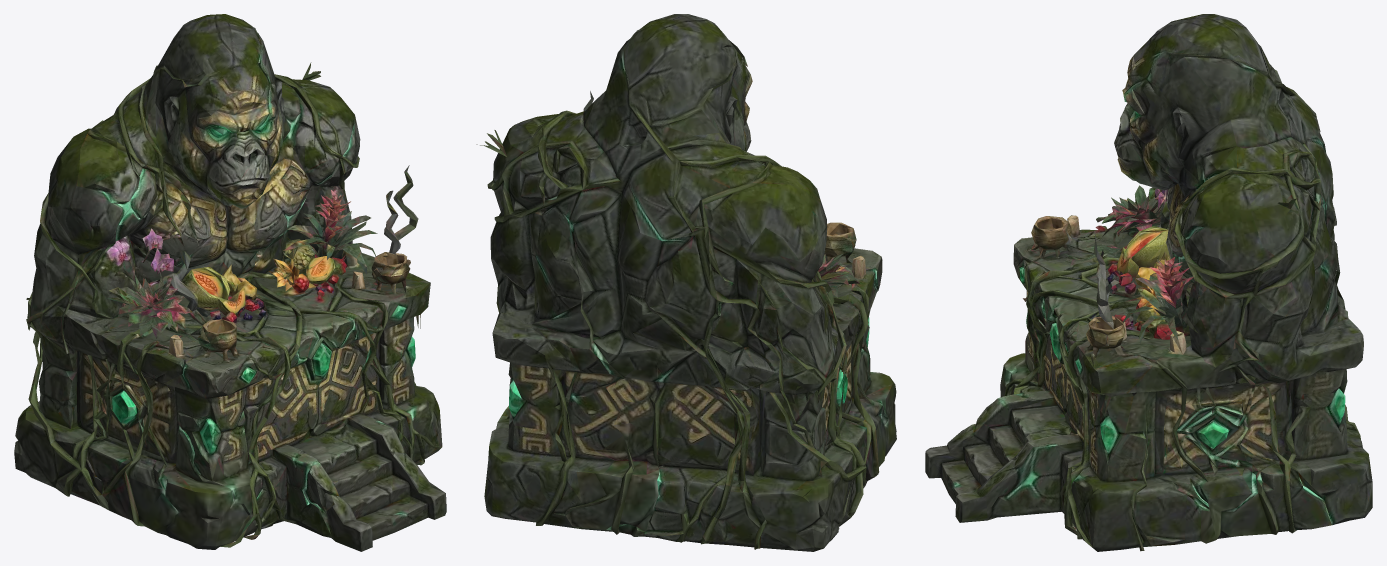
Rendered from model.opt.c.glb.
3 views of the same model, side by side, from view 1: azimuth 30°, elevation 25°; view 2: azimuth 150°, elevation 25°; view 3: azimuth 270°, elevation 25° (orthographic). The views are drawn at different scales.
Parts seen in each view (by area): view 1: Mesh_0; view 2: Mesh_0; view 3: Mesh_0.
Boxes of the visible parts, bbox=[...] form: Mesh_0: bbox=[14, 14, 446, 551]; Mesh_0: bbox=[476, 14, 896, 551]; Mesh_0: bbox=[925, 14, 1372, 551].
Size of the model in its own units: 1.56 by 1.9 by 1.72.
Materials: 1 (1 with a texture image).
